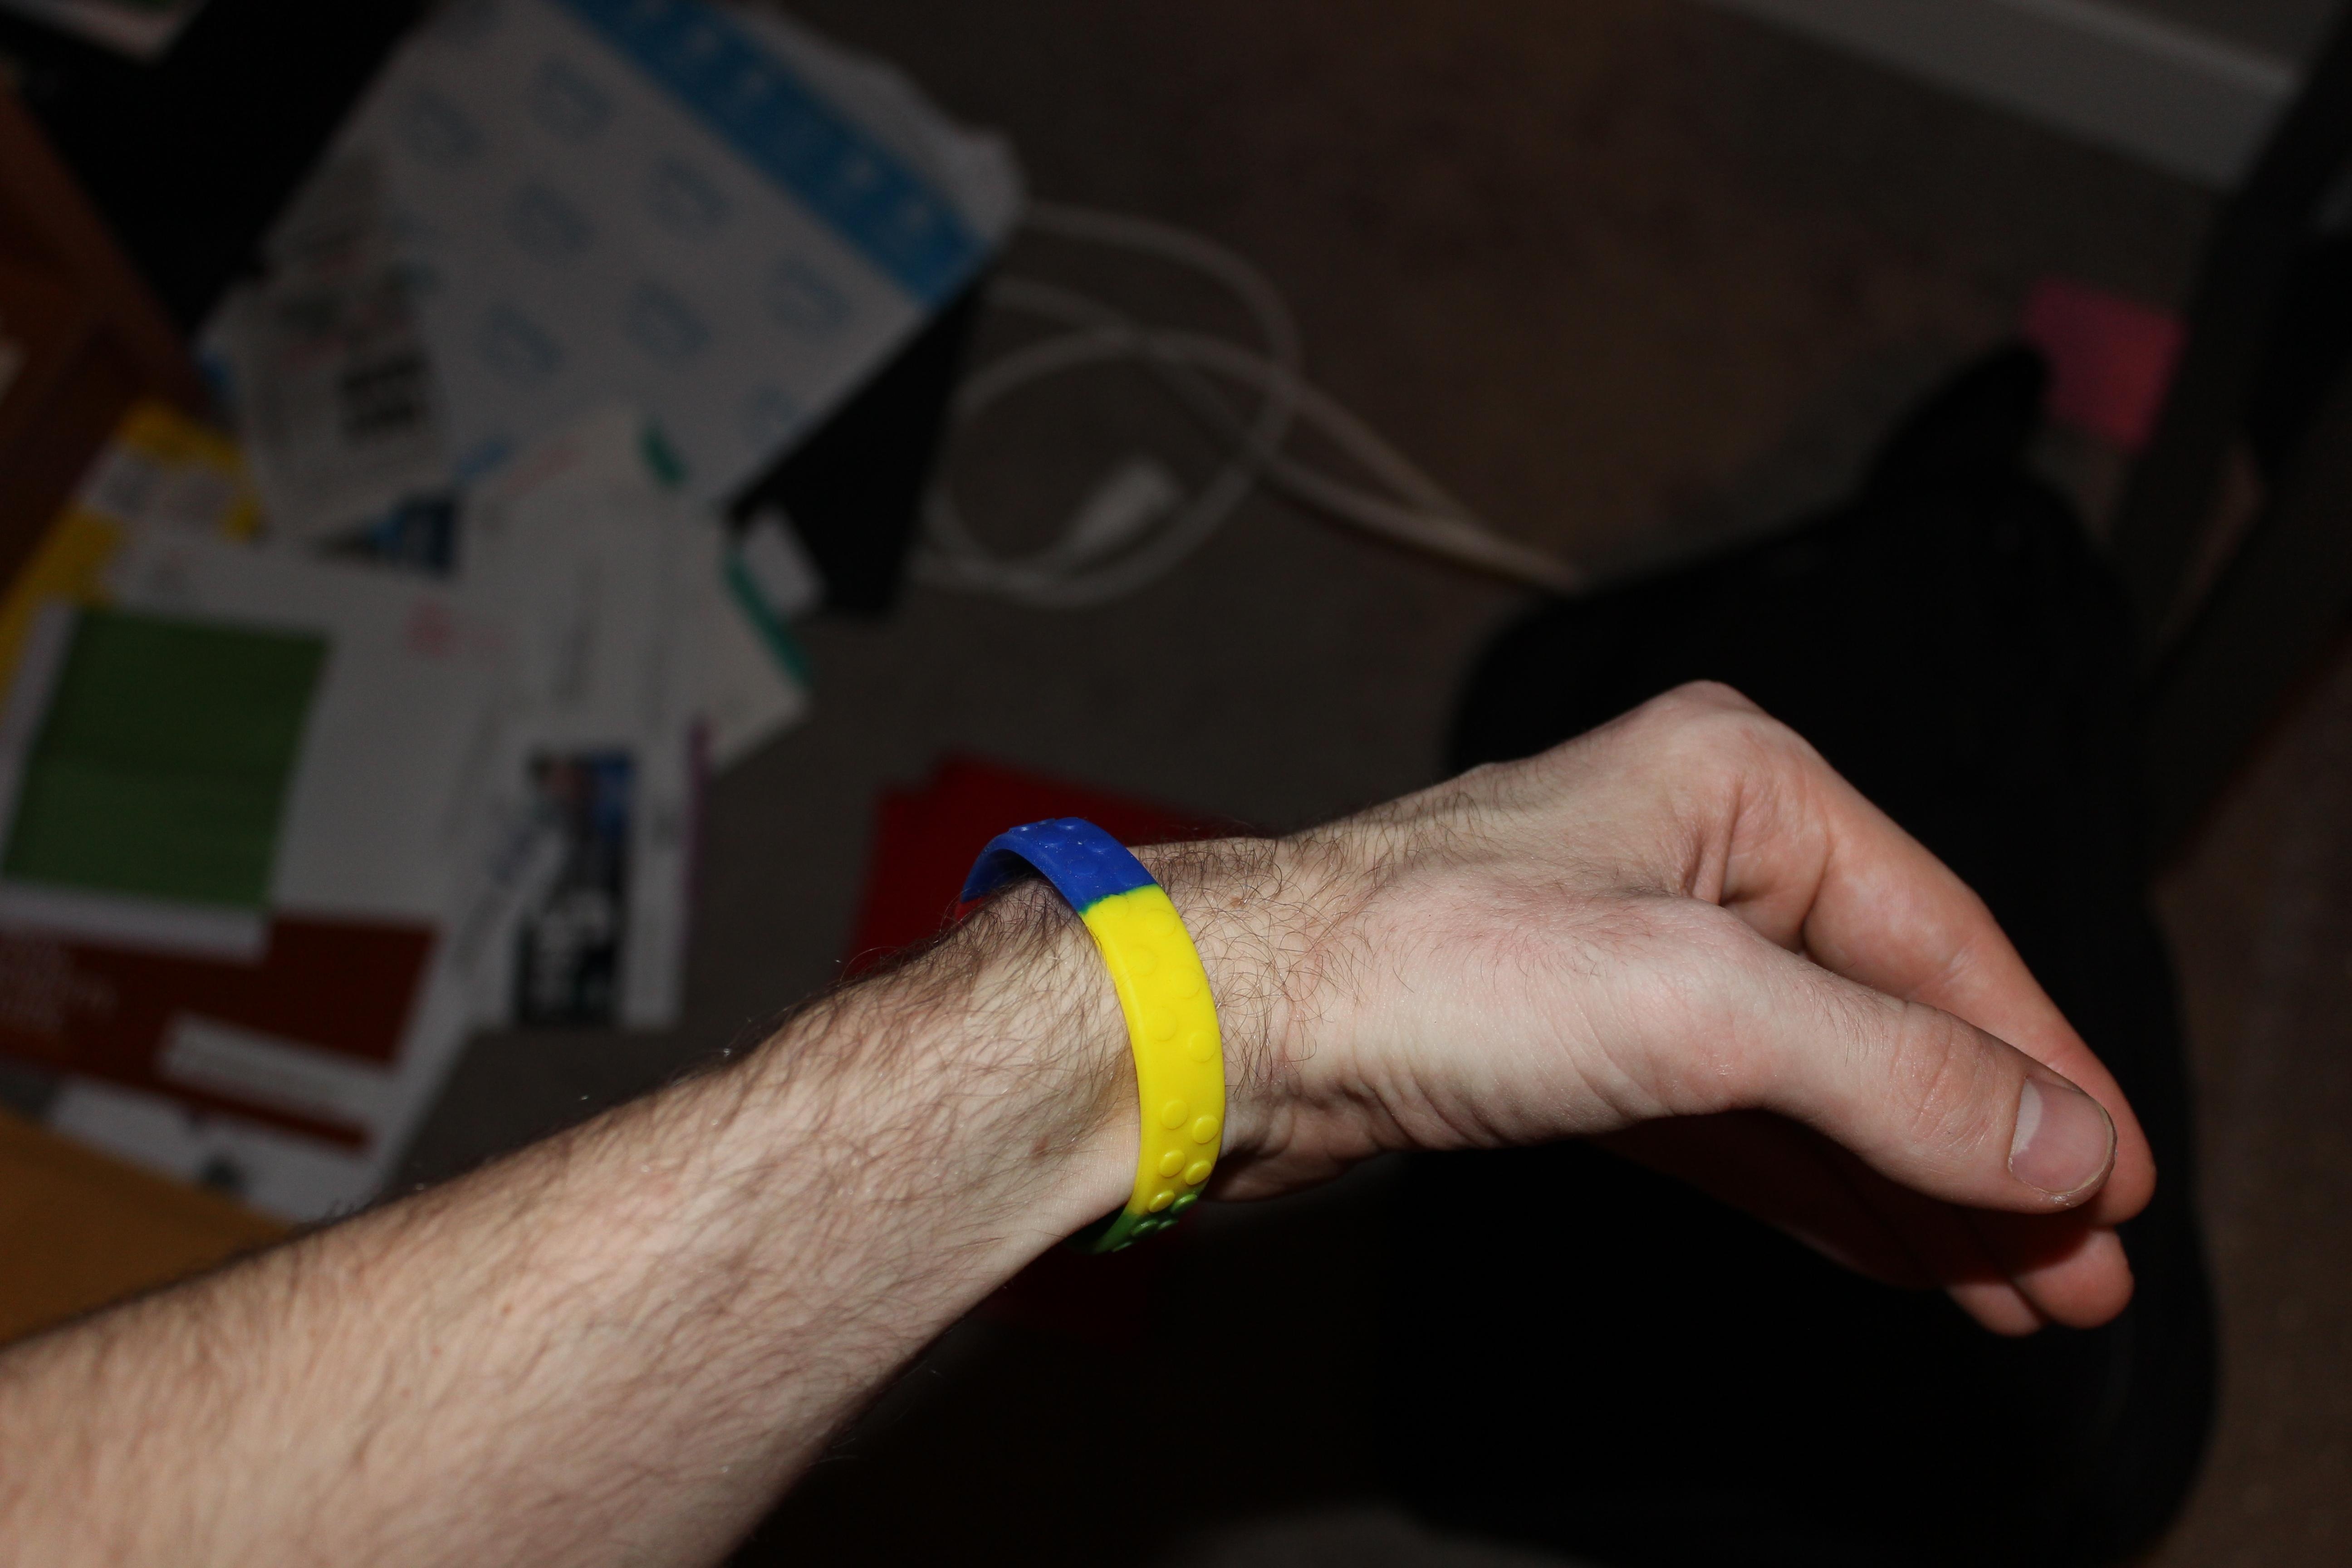legoBracelet: (926, 794, 1256, 1281)
